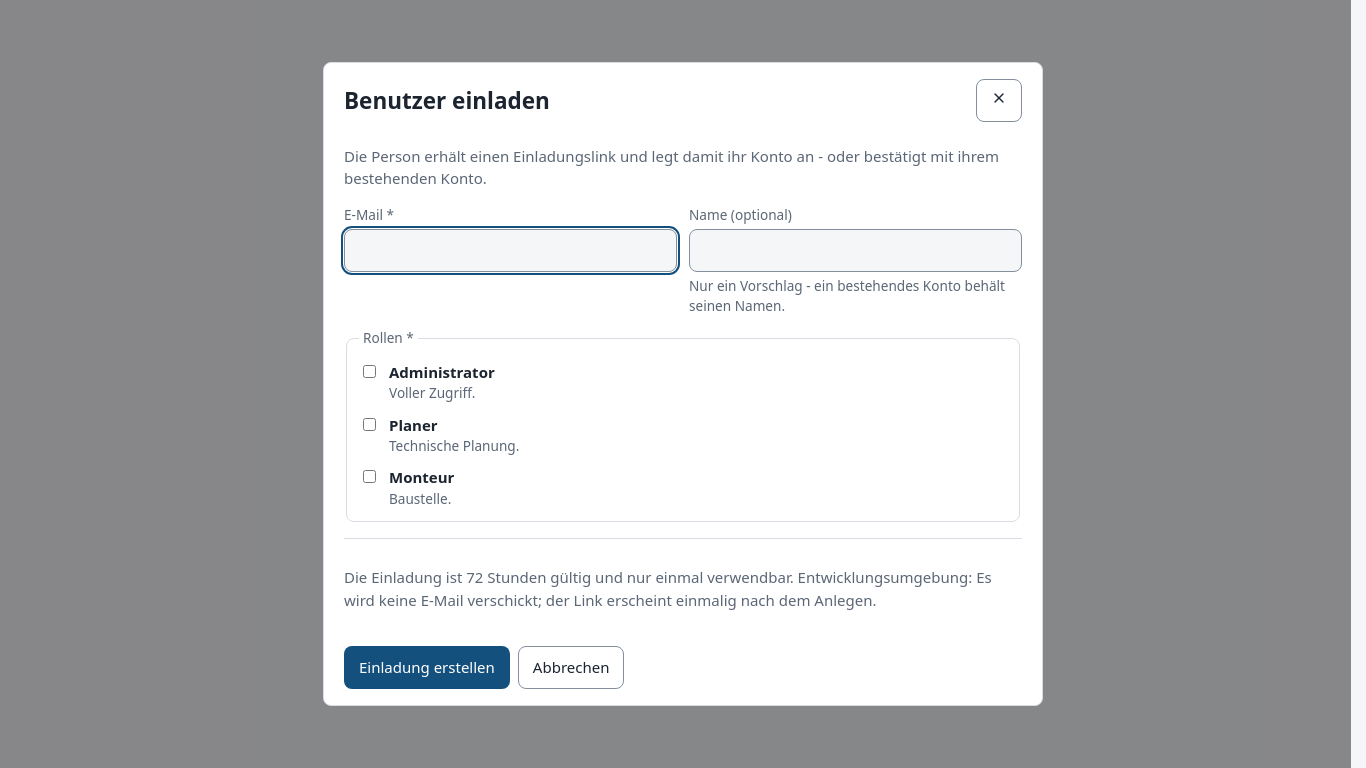
Test case: Benutzer einladen › sendet mit Enter genau einmal, auch bei Doppelklick
Type "  neu@test.example " into the field labelled "E-Mail *" at [510, 250], box top-left (344, 229), bottom-right (677, 272)
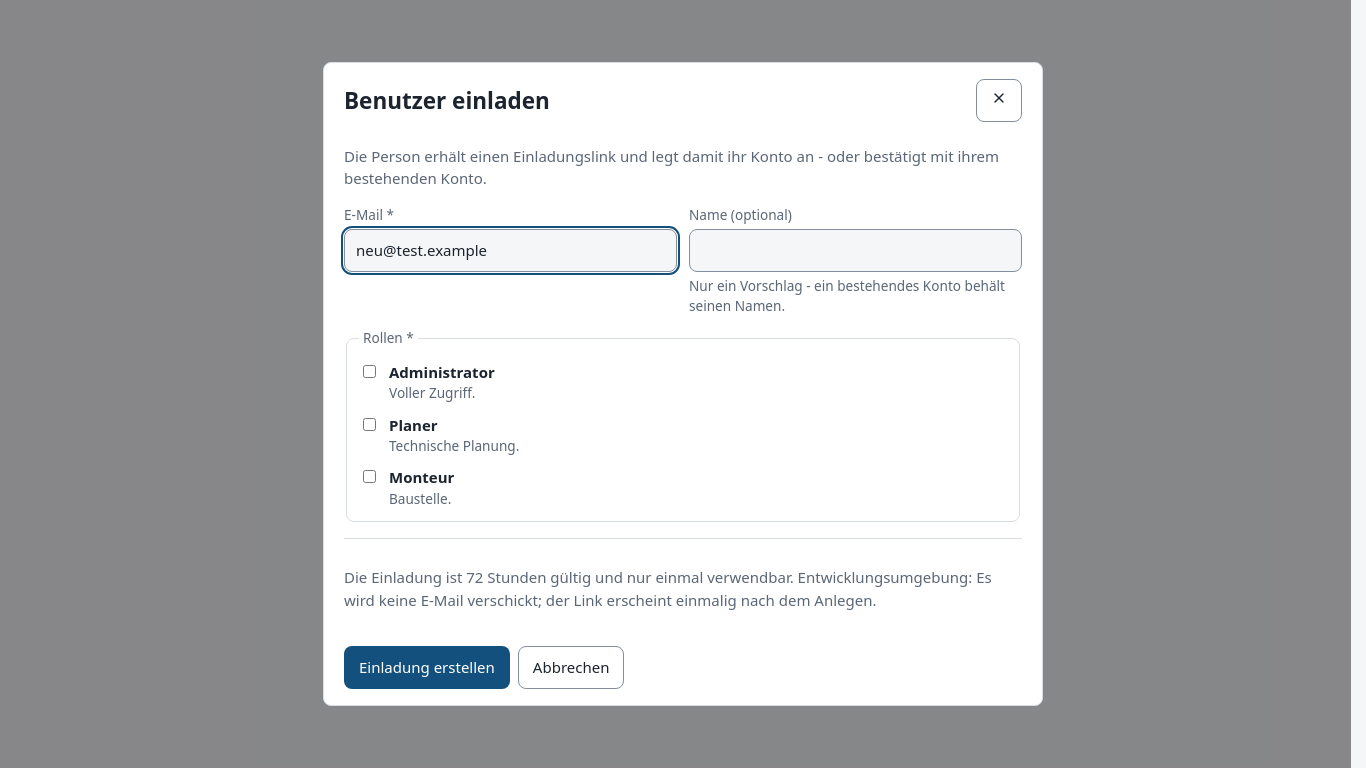
Click the checkbox labelled "Monteur Baustelle." at [370, 477], box top-left (363, 470), bottom-right (376, 484)
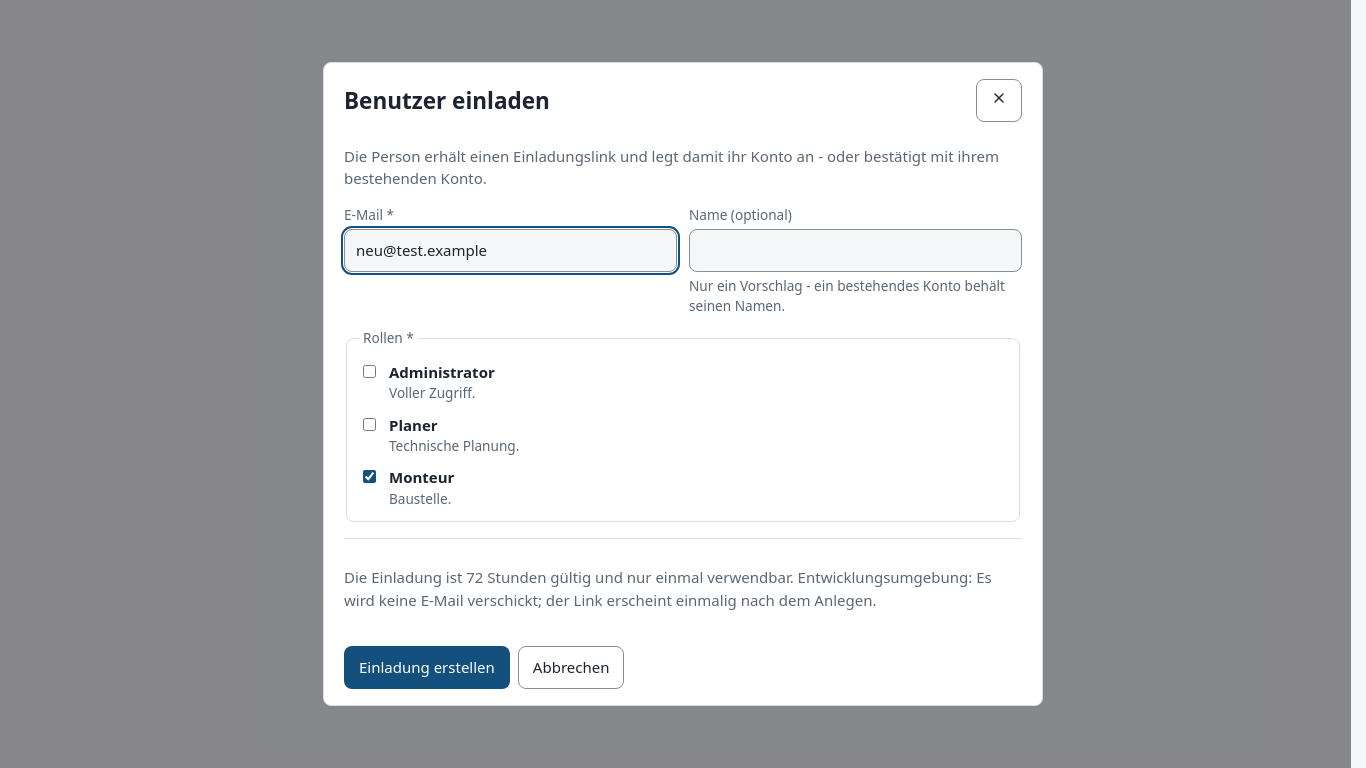
Submit the form labelled "E-Mail", box top-left (344, 205), bottom-right (1022, 689)
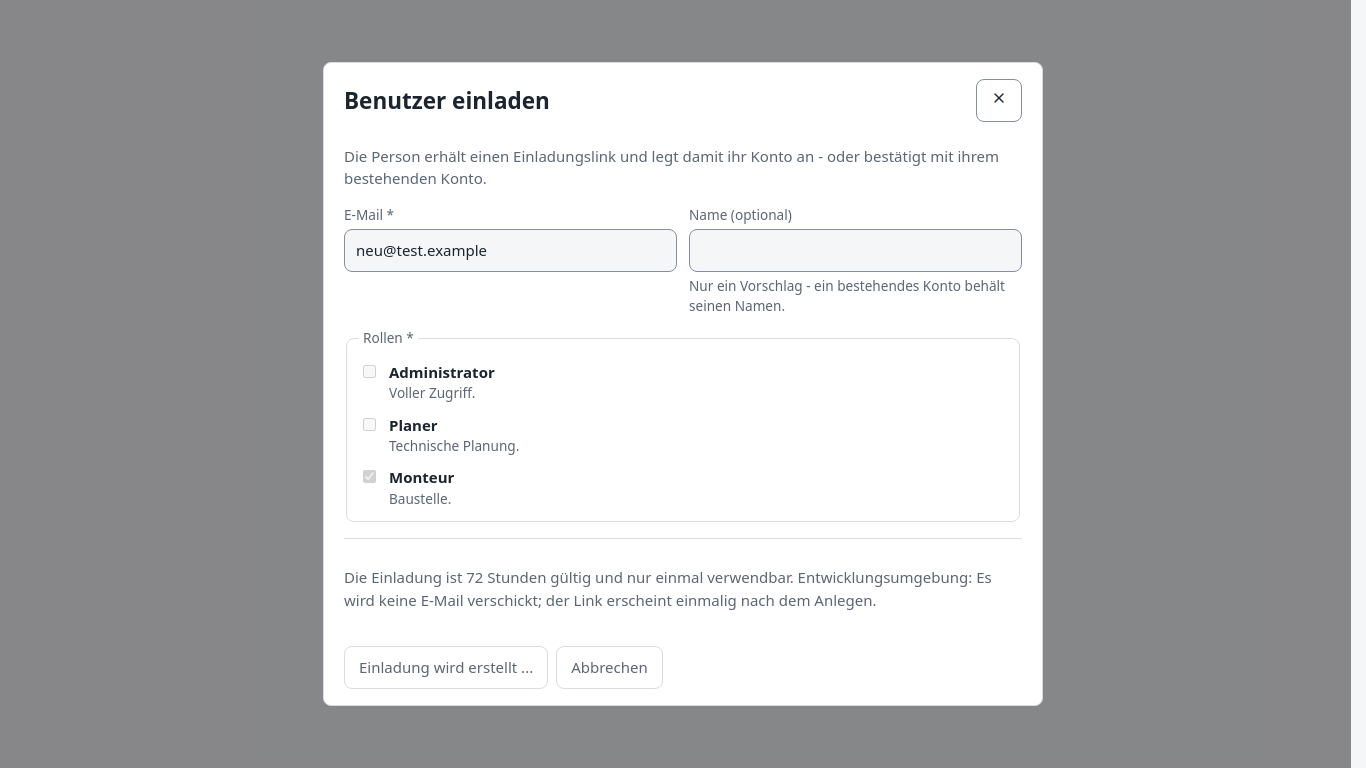
Submit the form labelled "E-Mail", box top-left (344, 205), bottom-right (1022, 689)
Click the button "Einladung wird erstellt ..." at [446, 668], box top-left (344, 646), bottom-right (548, 689)
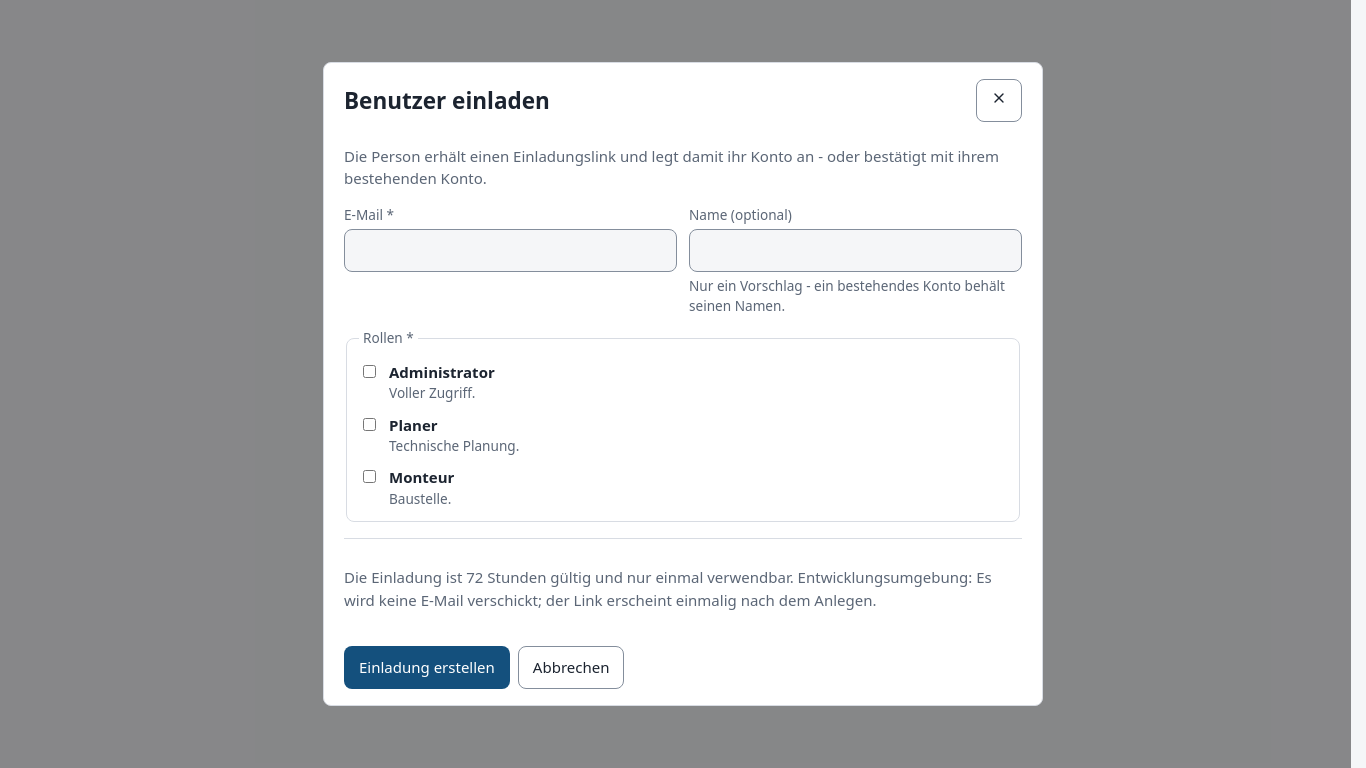
Check: the button "Einladung erstellen" is enabled, box top-left (344, 646), bottom-right (510, 689)
